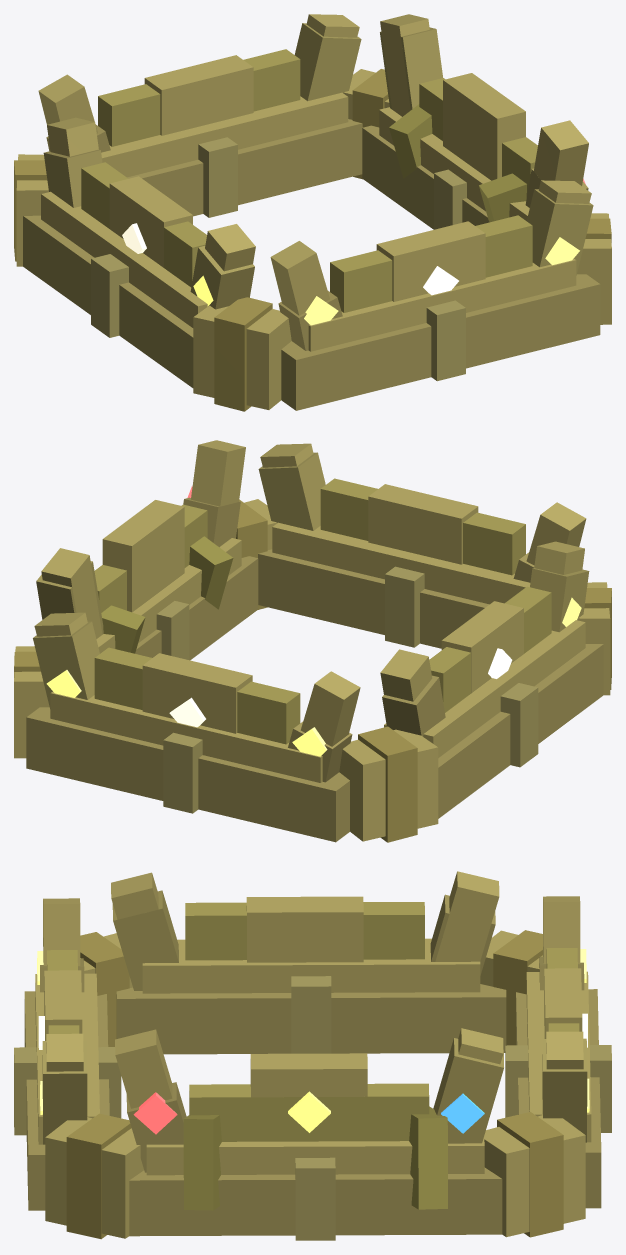
File: the_crown.glb
3 renders of one model, top to bottom at view 1: azimuth 30°, elevation 25°; view 2: azimuth 150°, elevation 25°; view 3: azimuth 270°, elevation 25°, orthographic. The views are drawn at different scales.
Visible parts, largest first — view 1: node_id64.028, node_id64.017, node_id64.054, node_id64.015, node_id64.026, node_id64.039, node_id64.013, node_id64.012, node_id64.023, node_id64.055, node_id64.004, node_id64.024 (+33 smaller); view 2: node_id64.017, node_id64.028, node_id64.054, node_id64.026, node_id64.015, node_id64.039, node_id64.024, node_id64.012, node_id64.023, node_id64.007, node_id64.055, node_id64.013 (+34 smaller); view 3: node_id64.054, node_id64.057, node_id64.055, node_id64.031, node_id64.058, node_id64.030, node_id64.046, node_id64.009, node_id64.006, node_id64.039, node_id64.005, node_id64.008 (+34 smaller).
Boxes of the visible parts, x1,y1,x2,y2 form: node_id64.028: (281, 274, 600, 410); node_id64.017: (127, 119, 362, 216); node_id64.054: (23, 215, 193, 387); node_id64.015: (101, 92, 348, 177); node_id64.026: (308, 259, 576, 351); node_id64.039: (443, 73, 525, 180); node_id64.013: (144, 55, 253, 135); node_id64.012: (98, 49, 300, 146); node_id64.023: (330, 215, 532, 312); node_id64.055: (41, 191, 207, 327); node_id64.004: (193, 305, 291, 409); node_id64.024: (376, 221, 485, 301); node_id64.017: (26, 707, 349, 842); node_id64.028: (258, 549, 489, 648); node_id64.054: (438, 644, 603, 818); node_id64.026: (272, 522, 530, 604); node_id64.015: (50, 691, 322, 782); node_id64.039: (102, 500, 184, 612); node_id64.024: (368, 484, 478, 564); node_id64.012: (94, 647, 300, 744); node_id64.023: (320, 478, 525, 575); node_id64.007: (339, 729, 438, 841); node_id64.055: (384, 620, 585, 757); node_id64.013: (142, 653, 252, 733); node_id64.054: (116, 984, 506, 1054); node_id64.057: (129, 1167, 502, 1236); node_id64.055: (142, 938, 480, 993); node_id64.031: (189, 1083, 429, 1141); node_id64.058: (146, 1136, 484, 1175); node_id64.030: (246, 896, 363, 962); node_id64.046: (185, 902, 424, 960); node_id64.009: (484, 1115, 585, 1237); node_id64.006: (45, 1117, 143, 1238); node_id64.039: (250, 1053, 367, 1097); node_id64.005: (66, 1113, 131, 1239); node_id64.008: (497, 1112, 563, 1237).
Bounding box in the file's own units: 250 × 92.68 × 270.
